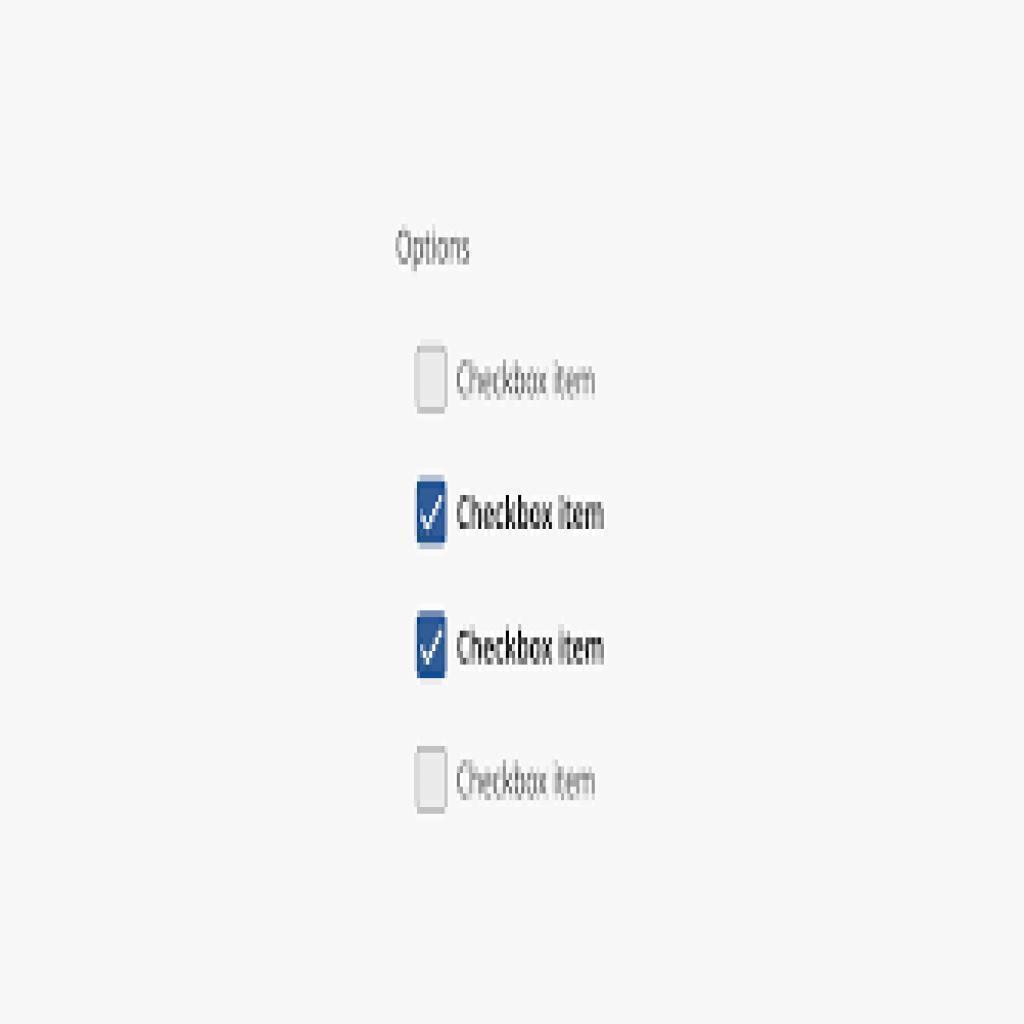checkbox: (414, 348, 448, 414), (414, 610, 446, 678), (417, 480, 447, 550), (417, 748, 446, 814)
